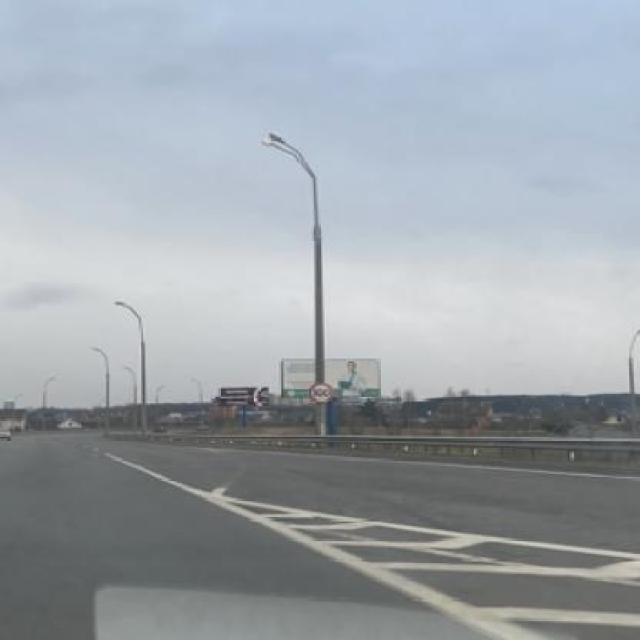forb_speed_over_100: (310, 382, 336, 403)
